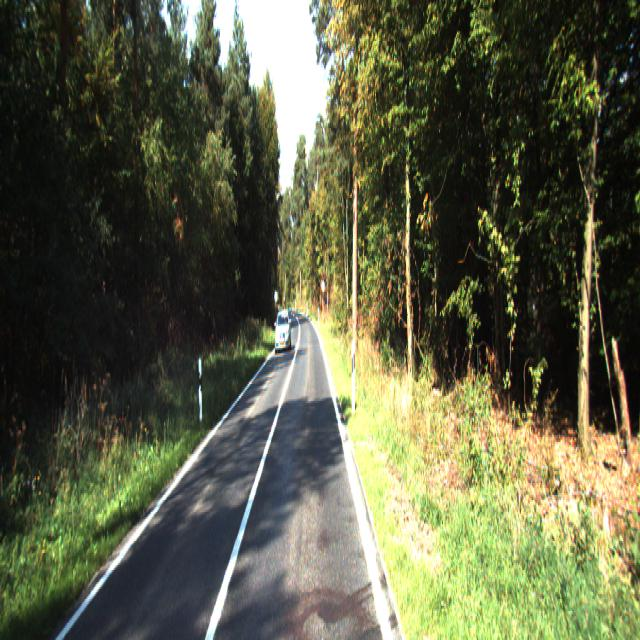Car: (274, 310, 292, 354)
